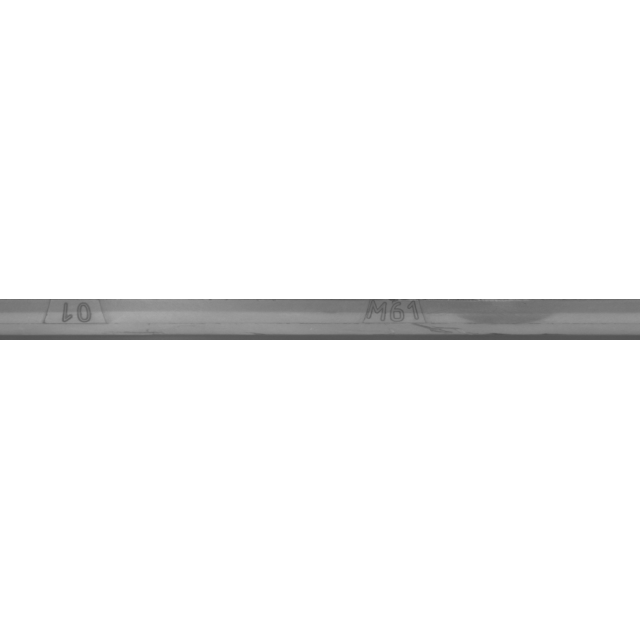mohao: (293, 270, 493, 370)
xuehao: (0, 270, 177, 370)
